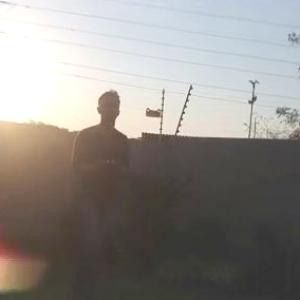follow: (62, 75, 134, 299)
